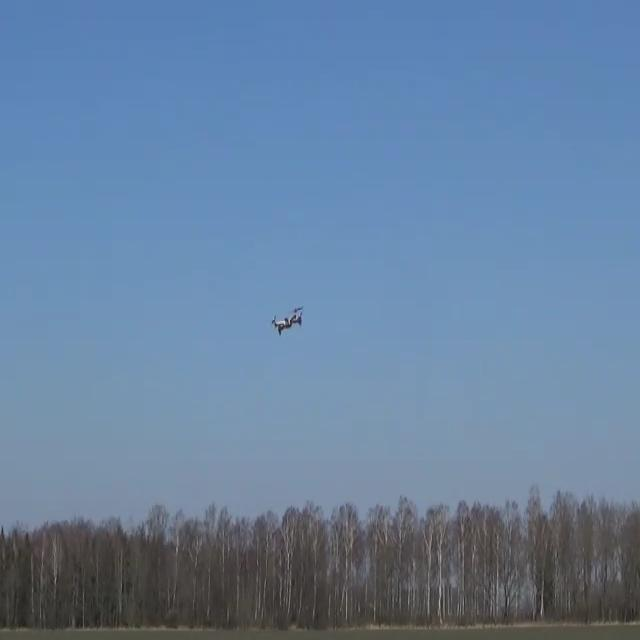Drone: (266, 305, 310, 339)
